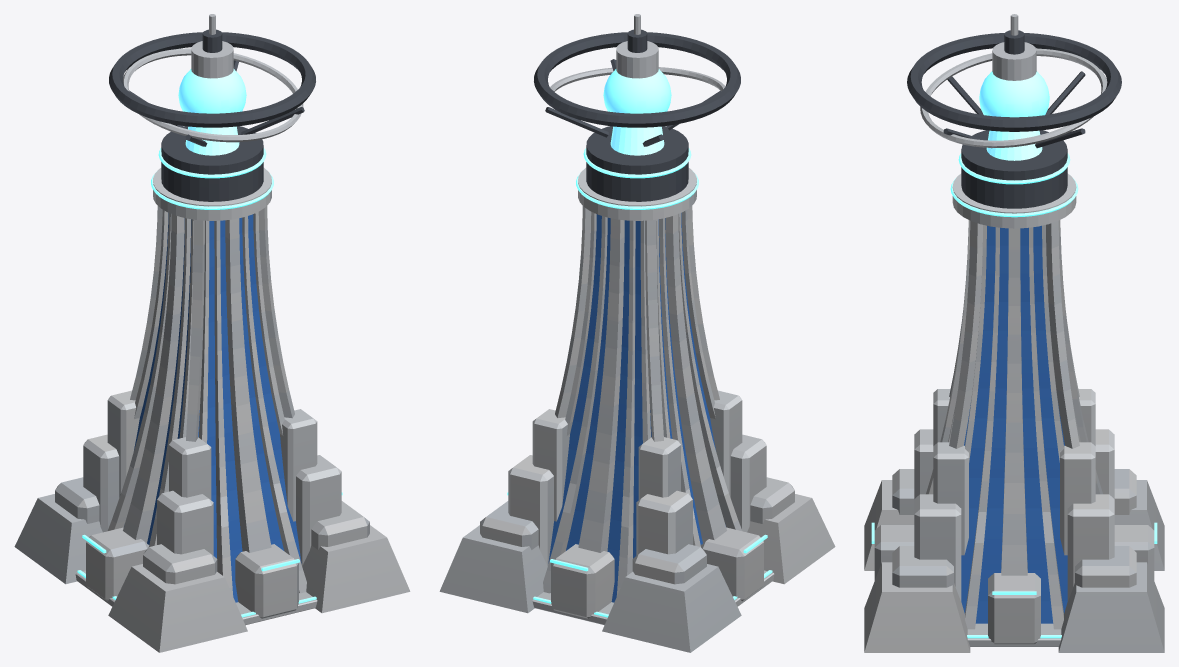
The model's file is emetteur.glb.
The picture shows the model from 3 angles, left to right: view 1: azimuth 30°, elevation 25°; view 2: azimuth 150°, elevation 25°; view 3: azimuth 270°, elevation 25°; orthographic projection. The views are drawn at different scales.
Parts seen in each view (by area): view 1: emetteur; view 2: emetteur; view 3: emetteur.
Part boxes in pixels (box(x1,y1,x2,y2)): emetteur: box(14, 14, 410, 652); emetteur: box(439, 14, 835, 652); emetteur: box(864, 14, 1164, 652).
Bounding box in the file's own units: 2.04 × 4.3 × 2.04.
